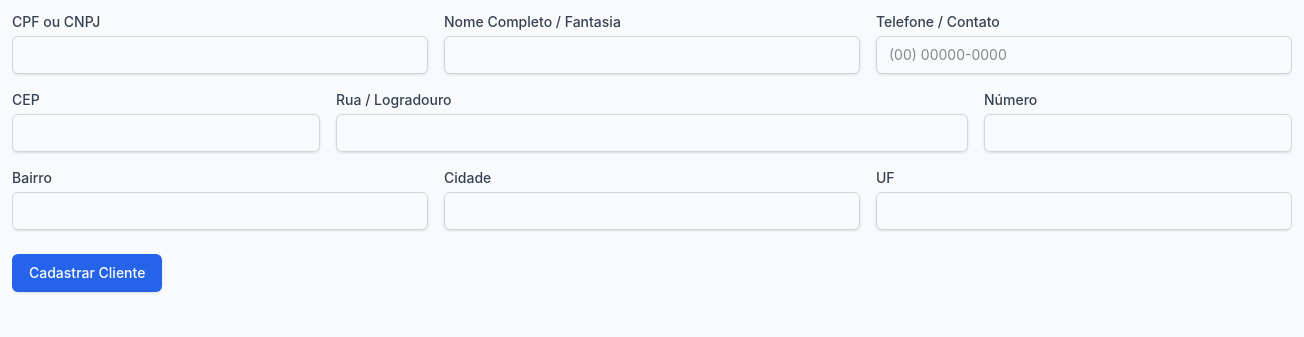
CustomerForm Component › should show required field validation messages in pt-BR when submitting empty
This screenshot has width=1304, height=337.
Click the button "Cadastrar Cliente": (87, 273) [12, 254, 162, 292]
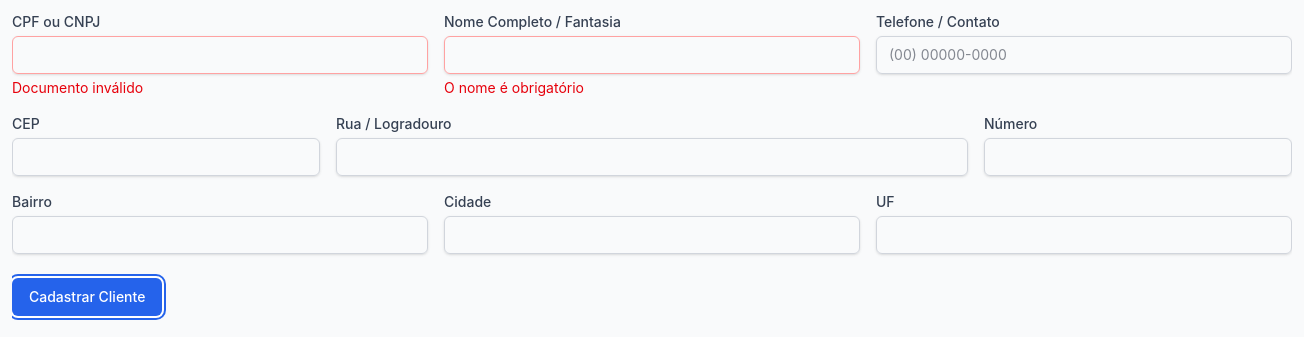
Expected: the text "O nome é obrigatório" is shown, [444, 79, 584, 96]
Expected: the text "Documento inválido" is shown, [12, 79, 143, 96]
